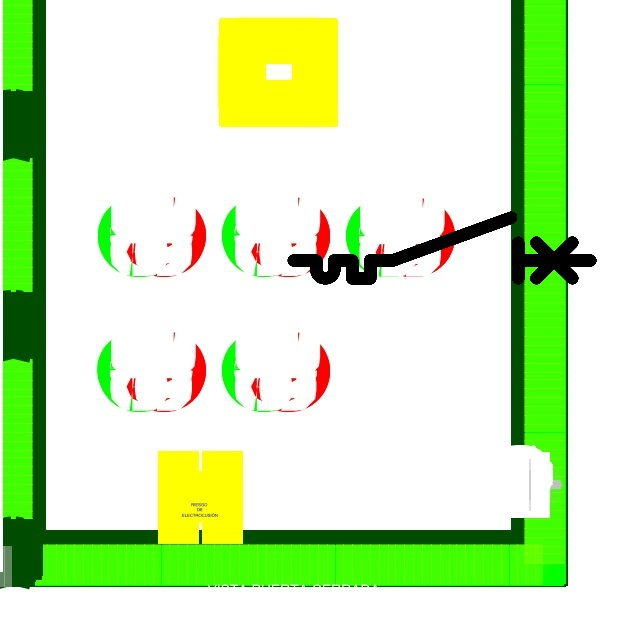interruptor_termomagnetico: (286, 210, 598, 286)
